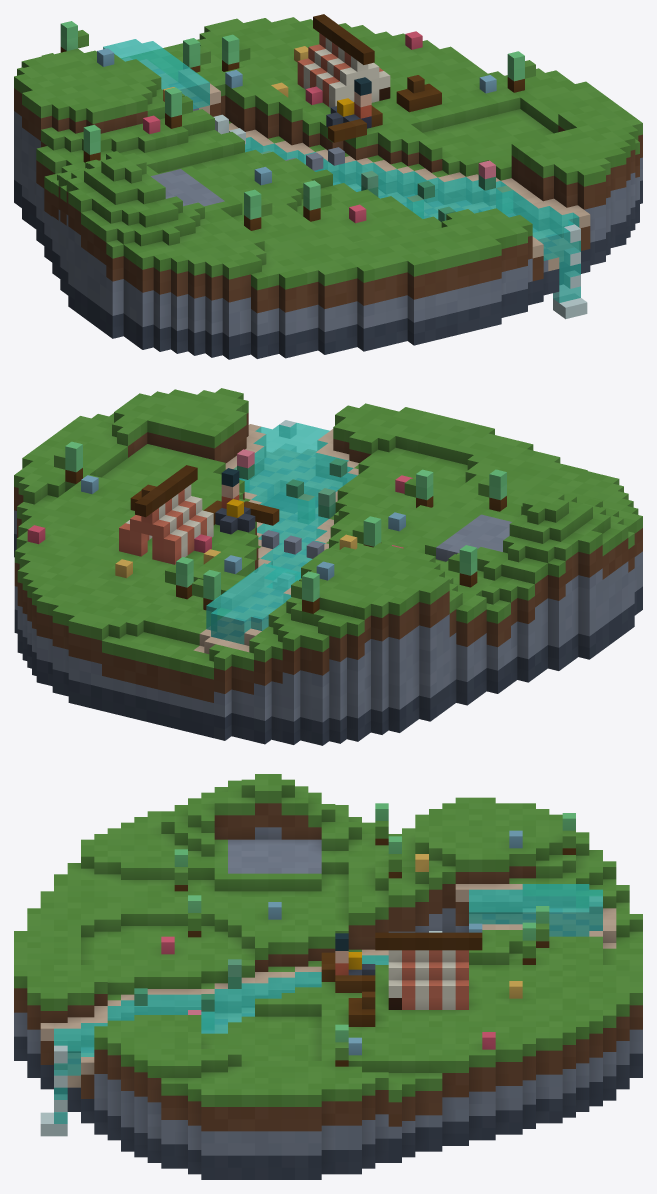
Rendered from valley_stage1_camp.glb.
3 views of the same model, one above another, from view 1: azimuth 30°, elevation 25°; view 2: azimuth 150°, elevation 25°; view 3: azimuth 270°, elevation 25° (orthographic). The views are drawn at different scales.
Parts seen in each view (by area): view 1: VoxelDiorama; view 2: VoxelDiorama; view 3: VoxelDiorama.
Boxes of the visible parts, x1,y1,x2,y2 form: VoxelDiorama: (14, 14, 642, 359); VoxelDiorama: (14, 388, 642, 745); VoxelDiorama: (14, 774, 642, 1179).
Bounding box in the file's own units: 24.5 × 7.5 × 23.5.
